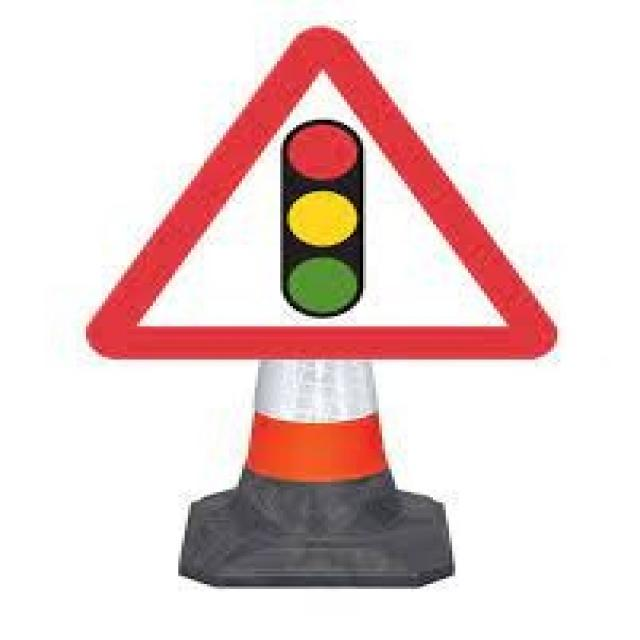light_traffic: (84, 21, 554, 368)
